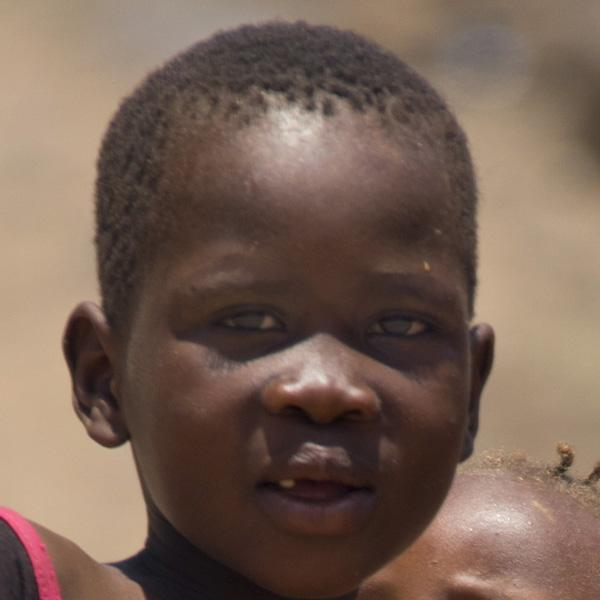Eyes: (202, 292, 299, 348), (353, 297, 439, 352)
